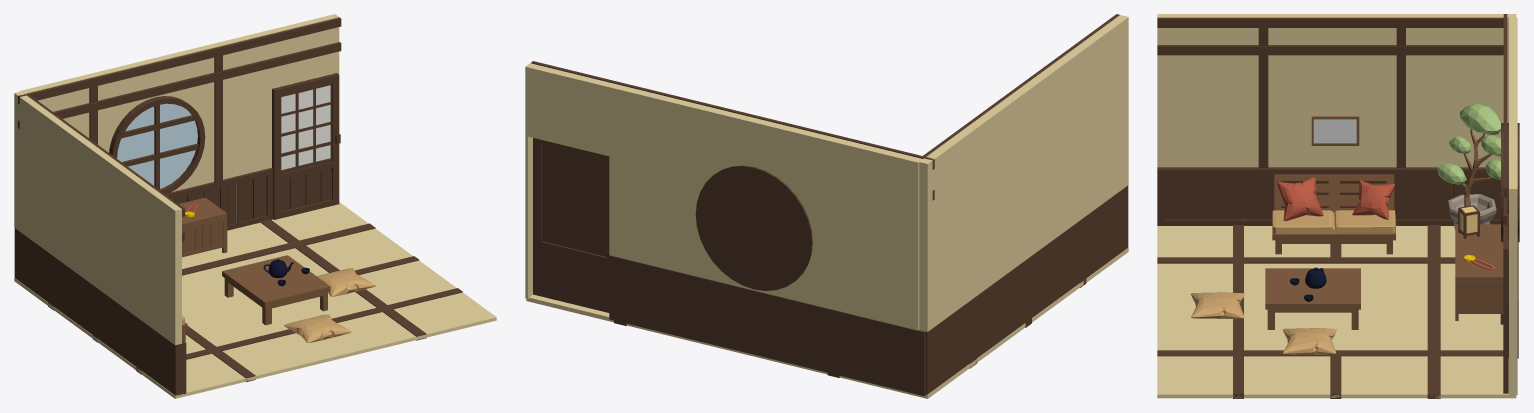
The model's file is Livingroom (1).fbx.
3 views of the same model, side by side, from view 1: azimuth 30°, elevation 25°; view 2: azimuth 150°, elevation 25°; view 3: azimuth 270°, elevation 25° (orthographic). The views are drawn at different scales.
Visible parts, largest first — view 1: Cube.036, Cube.045, Cube.049, Cube.038, Cube.051, AAA, Cube.001, Cube.046, Cube.053, Cube.039, Cube.052, Cube.044 (+6 smaller); view 2: Cube.049, Cube.045, Cube.053, Cube.051, Cube.038, AAA, Cube.036, Cube.039, Cube.054; view 3: Cube.045, Cube.036, Cube.051, Cube.001, Cube.046, Cube.054, Cube.059, Cube.049, Cube.044, Cube.043, Cube.047, Cube.040 (+20 smaller).
Boxes of the visible parts, box(x1,y1,x2,y2) form: Cube.036: box(14, 202, 496, 398); Cube.045: box(14, 91, 181, 345); Cube.049: box(20, 14, 339, 221); Cube.038: box(272, 73, 339, 219); Cube.051: box(14, 228, 186, 395); AAA: box(109, 96, 205, 194); Cube.001: box(48, 219, 462, 382); Cube.046: box(222, 255, 330, 325); Cube.053: box(166, 168, 272, 230); Cube.039: box(18, 17, 341, 104); Cube.052: box(18, 42, 341, 128); Cube.044: box(179, 197, 227, 257); Cube.049: box(525, 63, 922, 330); Cube.045: box(919, 15, 1128, 331); Cube.053: box(609, 255, 925, 395); Cube.051: box(925, 185, 1128, 394); Cube.038: box(533, 138, 609, 312); AAA: box(695, 165, 812, 290); Cube.036: box(526, 247, 1128, 398); Cube.039: box(531, 61, 934, 169); Cube.054: box(921, 14, 1119, 158); Cube.045: box(1157, 14, 1516, 167); Cube.036: box(1157, 226, 1516, 398); Cube.051: box(1157, 167, 1500, 225); Cube.001: box(1157, 225, 1503, 398); Cube.046: box(1265, 268, 1360, 329); Cube.054: box(1157, 17, 1506, 27); Cube.059: box(1157, 45, 1503, 55); Cube.049: box(1509, 17, 1517, 395); Cube.044: box(1455, 251, 1503, 320); Cube.043: box(1272, 210, 1395, 234); Cube.047: box(1274, 174, 1394, 212); Cube.040: box(1272, 215, 1395, 254).
Bounding box in the file's own units: 1319 × 749 × 1154.
